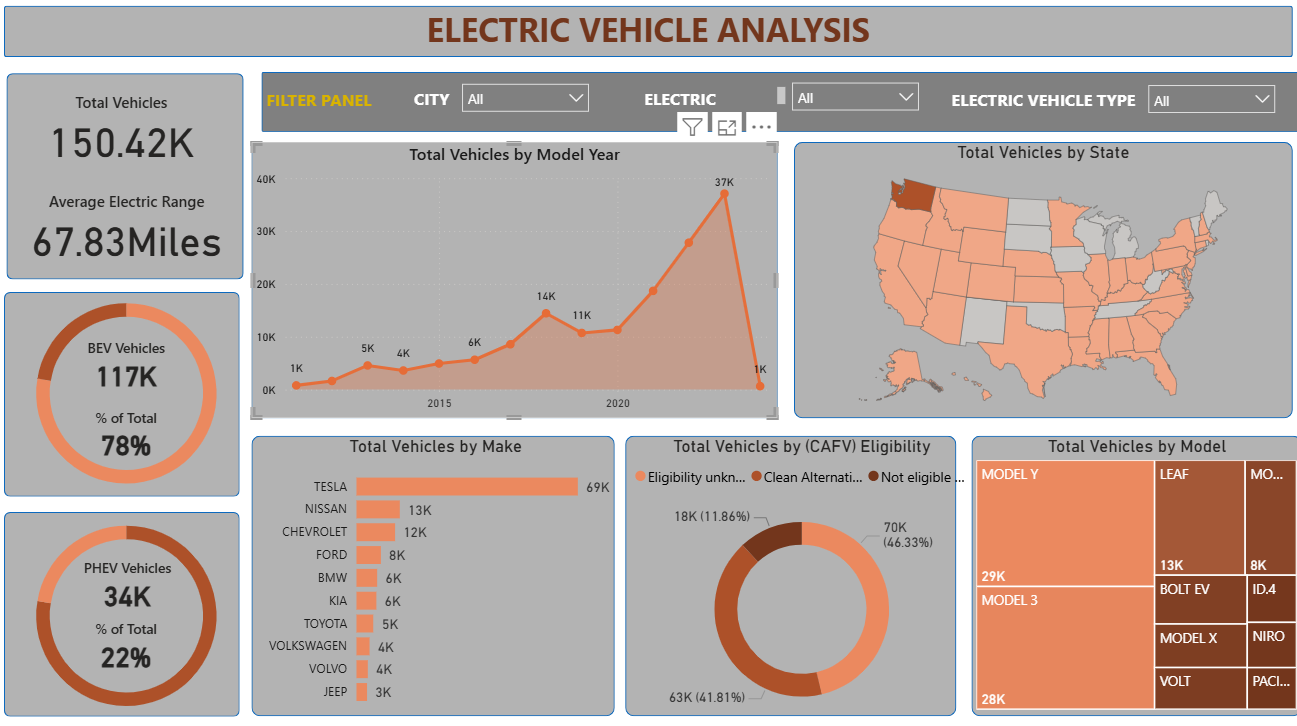

The page's visual inventory and layout, read from the dashboard file:
{"tool":"powerbi","page":{"name":"Page 1","canvas":[1280,720],"ordinal":0},"visuals":[{"type":"shape","box":[9.8,8.6,1260.7,50.1],"z":0},{"type":"textbox","box":[418.5,5.5,478.9,56.3],"z":1000},{"type":"textbox","box":[0,513,459,150],"z":2000},{"type":"shape","box":[12.3,74.1,231.9,201.7],"z":3000},{"type":"shape","box":[9.6,288.2,230.5,200.3],"z":4000},{"type":"shape","box":[9.6,503.6,230.5,200.3],"z":5000},{"type":"card","title":"Total Vehicles","fields":{"Values":["Electric_Vehicle_Population_Data.Total Vehicles"]},"box":[35.7,93.3,178.4,71.4],"z":6000},{"type":"card","title":"Average Electric Range","fields":{"Values":["Electric_Vehicle_Population_Data.Avg Range"]},"box":[27.4,189.4,205.8,71.4],"z":7000},{"type":"donutChart","fields":{"Category":["Electric_Vehicle_Population_Data.Electric Vehicle Type"],"Y":["Electric_Vehicle_Population_Data.Total Vehicles"]},"box":[0,273.1,259.3,230.5],"z":8000},{"type":"card","title":"BEV Vehicles","fields":{"Values":["Electric_Vehicle_Population_Data.BEV Vehicles"]},"box":[64.5,333.4,129,54.9],"z":9000},{"type":"card","title":"% of Total","fields":{"Values":["Electric_Vehicle_Population_Data.% of BEV"]},"box":[64.5,402.1,129,53.5],"z":10000},{"type":"donutChart","fields":{"Category":["Electric_Vehicle_Population_Data.Electric Vehicle Type"],"Y":["Electric_Vehicle_Population_Data.Total Vehicles"]},"box":[0,489.9,259.3,230.5],"z":11000},{"type":"card","title":"PHEV Vehicles","fields":{"Values":["Electric_Vehicle_Population_Data.PHEV Vehicles"]},"box":[65.9,548.9,129,54.9],"z":12000},{"type":"card","title":"% of Total","fields":{"Values":["Electric_Vehicle_Population_Data.% of PHEV"]},"box":[64.5,609.3,129,53.5],"z":13000},{"type":"shape","box":[261.4,73.6,1018.6,58.7],"z":14000},{"type":"shape","box":[251.9,141.8,514.8,270.2],"z":15000},{"type":"shape","box":[782.6,141.8,487.9,270.2],"z":16000},{"type":"shapeMap","fields":{"Category":["Electric_Vehicle_Population_Data.State"],"Value":["Electric_Vehicle_Population_Data.Total Vehicles"]},"box":[782.6,141.8,487.9,270.2],"z":17000},{"type":"shape","box":[252.5,429.5,355.4,274.4],"z":18000},{"type":"barChart","fields":{"Category":["Electric_Vehicle_Population_Data.Make"],"Y":["Electric_Vehicle_Population_Data.Total Vehicles"]},"box":[256.8,429.2,351,273.9],"z":19000},{"type":"shape","box":[617.5,429.5,323.8,274.4],"z":20000},{"type":"donutChart","title":"Total Vehicles by (CAFV) Eligibility","fields":{"Category":["Electric_Vehicle_Population_Data.Clean Alternative Fuel Vehicle (CAFV) Eligibility"],"Y":["Electric_Vehicle_Population_Data.Total Vehicles"]},"box":[617.5,429.5,345.8,290.9],"z":21000},{"type":"shape","box":[956.4,429.5,323.8,274.4],"z":22000},{"type":"treemap","fields":{"Group":["Electric_Vehicle_Population_Data.Model"],"Values":["Electric_Vehicle_Population_Data.Total Vehicles"]},"box":[956.3,429.2,324.1,272.7],"z":23000},{"type":"slicer","fields":{"Values":["Electric_Vehicle_Population_Data.City"]},"box":[447.6,74.6,144.3,52.6],"z":24000},{"type":"textbox","box":[406,83.2,83.2,33],"z":25000},{"type":"textbox","box":[261.7,84.4,121.1,33],"z":26000},{"type":"slicer","fields":{"Values":["Electric_Vehicle_Population_Data.Electric Vehicle Type"]},"box":[1118.9,75.8,144.3,52.6],"z":27000},{"type":"slicer","fields":{"Values":["Electric_Vehicle_Population_Data.Electric Utility"]},"box":[770.4,73.4,144.3,52.6],"z":28000},{"type":"textbox","box":[631,83.2,148,33],"z":29000},{"type":"textbox","box":[931.8,84.4,198.1,33],"z":30000},{"type":"areaChart","fields":{"Category":["Electric_Vehicle_Population_Data.Model Year"],"Y":["Electric_Vehicle_Population_Data.Total Vehicles"]},"box":[251.9,141.8,514.8,270.2],"z":31000}]}

Visuals, with their boxes in screenshot pixels (x1, y1, x2, y2), scaled from the page's 1280x720 canvas onto the 1297x726 screenshot:
shape: {"left": 10, "top": 9, "right": 1287, "bottom": 59}
textbox: {"left": 424, "top": 6, "right": 909, "bottom": 62}
textbox: {"left": 0, "top": 517, "right": 465, "bottom": 669}
shape: {"left": 12, "top": 75, "right": 247, "bottom": 278}
shape: {"left": 10, "top": 291, "right": 243, "bottom": 493}
shape: {"left": 10, "top": 508, "right": 243, "bottom": 710}
"Total Vehicles" card: {"left": 36, "top": 94, "right": 217, "bottom": 166}
"Average Electric Range" card: {"left": 28, "top": 191, "right": 236, "bottom": 263}
donutChart - Electric_Vehicle_Population_Data.Electric Vehicle Type x Electric_Vehicle_Population_Data.Total Vehicles: {"left": 0, "top": 275, "right": 263, "bottom": 508}
"BEV Vehicles" card: {"left": 65, "top": 336, "right": 196, "bottom": 392}
"% of Total" card: {"left": 65, "top": 405, "right": 196, "bottom": 459}
donutChart - Electric_Vehicle_Population_Data.Electric Vehicle Type x Electric_Vehicle_Population_Data.Total Vehicles: {"left": 0, "top": 494, "right": 263, "bottom": 725}
"PHEV Vehicles" card: {"left": 67, "top": 553, "right": 197, "bottom": 609}
"% of Total" card: {"left": 65, "top": 614, "right": 196, "bottom": 668}
shape: {"left": 265, "top": 74, "right": 1296, "bottom": 133}
shape: {"left": 255, "top": 143, "right": 777, "bottom": 415}
shape: {"left": 793, "top": 143, "right": 1287, "bottom": 415}
shapeMap - Electric_Vehicle_Population_Data.State x Electric_Vehicle_Population_Data.Total Vehicles: {"left": 793, "top": 143, "right": 1287, "bottom": 415}
shape: {"left": 256, "top": 433, "right": 616, "bottom": 710}
barChart - Electric_Vehicle_Population_Data.Make x Electric_Vehicle_Population_Data.Total Vehicles: {"left": 260, "top": 433, "right": 616, "bottom": 709}
shape: {"left": 626, "top": 433, "right": 954, "bottom": 710}
"Total Vehicles by (CAFV) Eligibility" donutChart: {"left": 626, "top": 433, "right": 976, "bottom": 725}
shape: {"left": 969, "top": 433, "right": 1296, "bottom": 710}
treemap - Electric_Vehicle_Population_Data.Model x Electric_Vehicle_Population_Data.Total Vehicles: {"left": 969, "top": 433, "right": 1296, "bottom": 708}
slicer - Electric_Vehicle_Population_Data.City: {"left": 454, "top": 75, "right": 600, "bottom": 128}
textbox: {"left": 411, "top": 84, "right": 496, "bottom": 117}
textbox: {"left": 265, "top": 85, "right": 388, "bottom": 118}
slicer - Electric_Vehicle_Population_Data.Electric Vehicle Type: {"left": 1134, "top": 76, "right": 1280, "bottom": 129}
slicer - Electric_Vehicle_Population_Data.Electric Utility: {"left": 781, "top": 74, "right": 927, "bottom": 127}
textbox: {"left": 639, "top": 84, "right": 789, "bottom": 117}
textbox: {"left": 944, "top": 85, "right": 1145, "bottom": 118}
areaChart - Electric_Vehicle_Population_Data.Model Year x Electric_Vehicle_Population_Data.Total Vehicles: {"left": 255, "top": 143, "right": 777, "bottom": 415}
